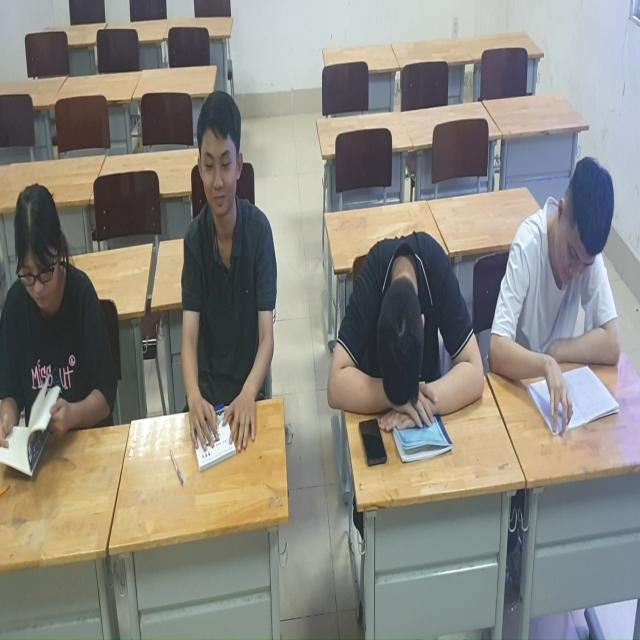read: (158, 83, 285, 488), (488, 154, 638, 459), (1, 161, 128, 459)
sleep: (321, 231, 486, 469)
